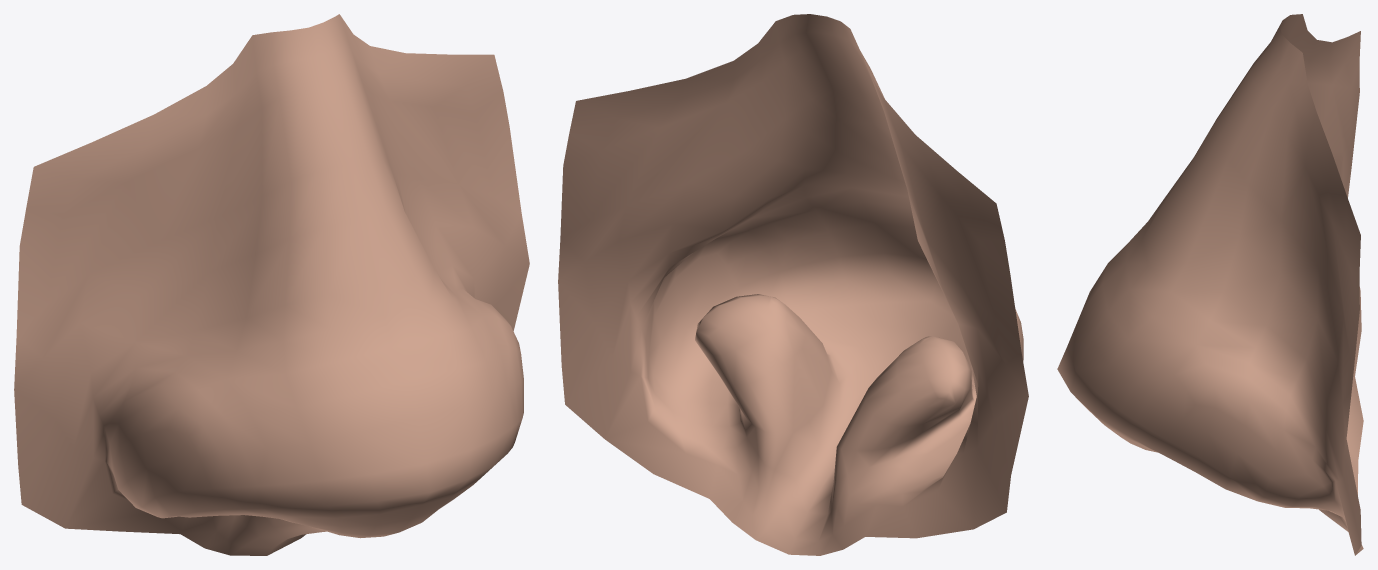
The model's file is nose_1.fbx.
3 views of the same model, side by side, from view 1: azimuth 30°, elevation 25°; view 2: azimuth 150°, elevation 25°; view 3: azimuth 270°, elevation 25° (orthographic). The views are drawn at different scales.
Parts seen in each view (by area): view 1: pasted__polySurface2; view 2: pasted__polySurface2; view 3: pasted__polySurface2.
Boxes of the visible parts, x1,y1,x2,y2 form: pasted__polySurface2: [14, 14, 529, 555]; pasted__polySurface2: [558, 14, 1028, 555]; pasted__polySurface2: [1057, 14, 1363, 555].
Bounding box in the file's own units: 0.0983 × 0.1018 × 0.0556.
